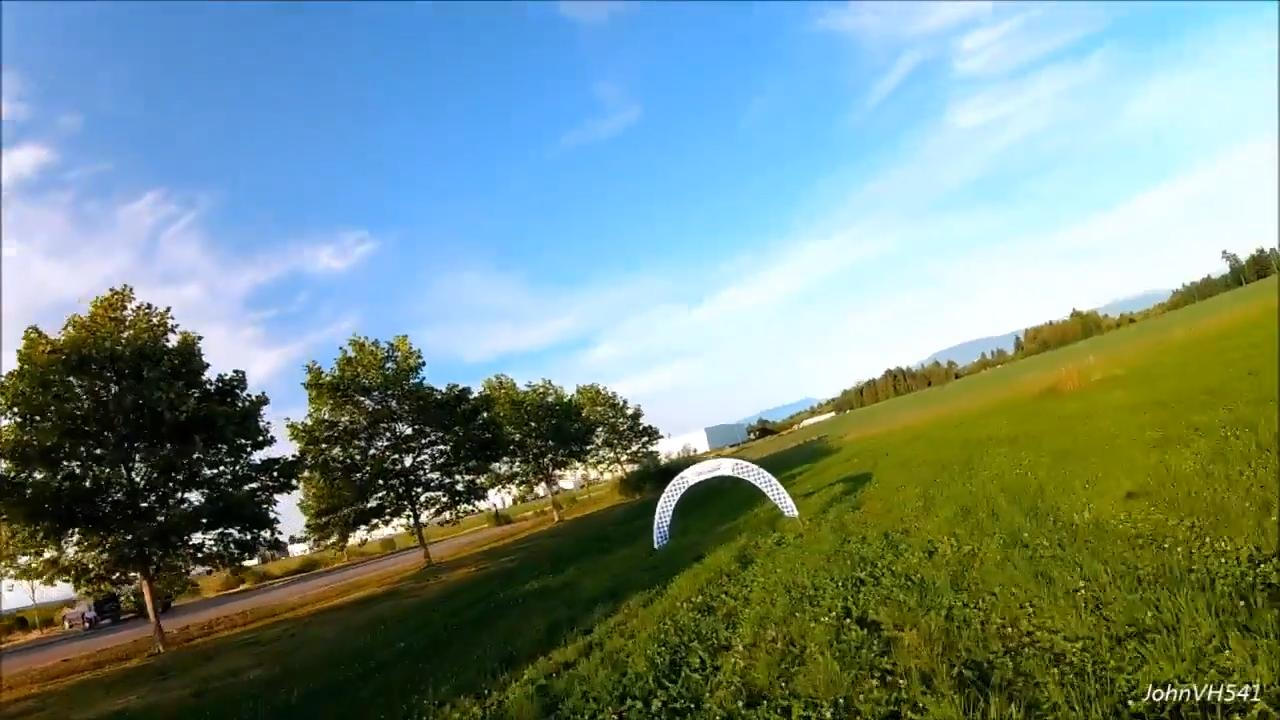gate: (653, 458, 797, 550)
